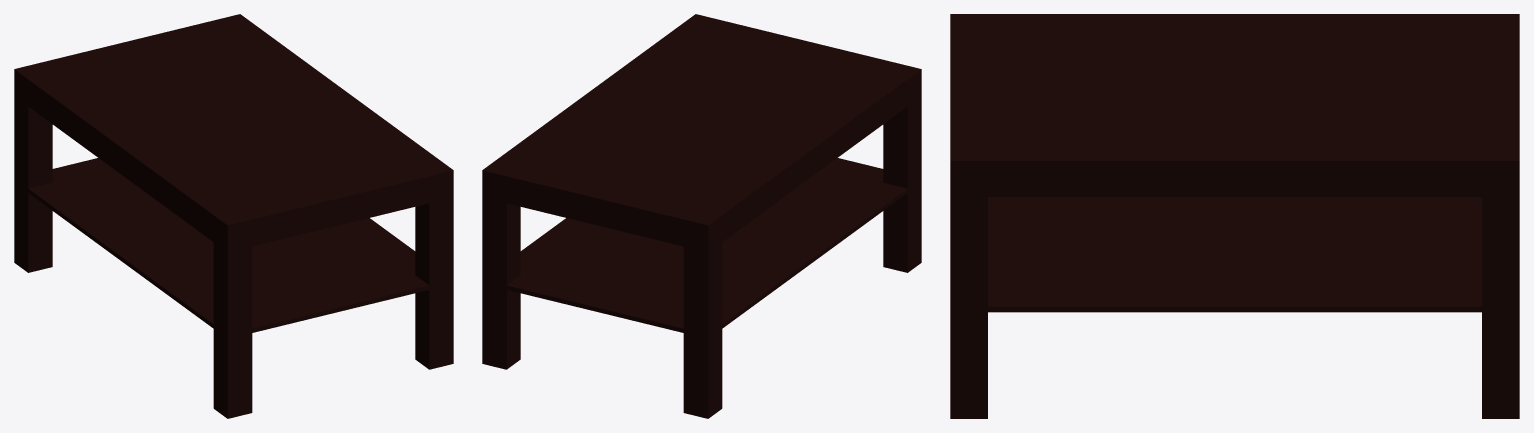
Rendered from TableS2.glb.
The picture shows the model from 3 angles, left to right: view 1: azimuth 30°, elevation 25°; view 2: azimuth 150°, elevation 25°; view 3: azimuth 270°, elevation 25°; orthographic projection. The views are drawn at different scales.
Visible parts, largest first — view 1: Cube; view 2: Cube; view 3: Cube.
Part boxes in pixels (box(x1,y1,x2,y2)): Cube: box(14, 14, 453, 418); Cube: box(482, 14, 921, 418); Cube: box(950, 14, 1519, 418).
Bounding box in the file's own units: 0.55 × 0.45 × 0.9.
